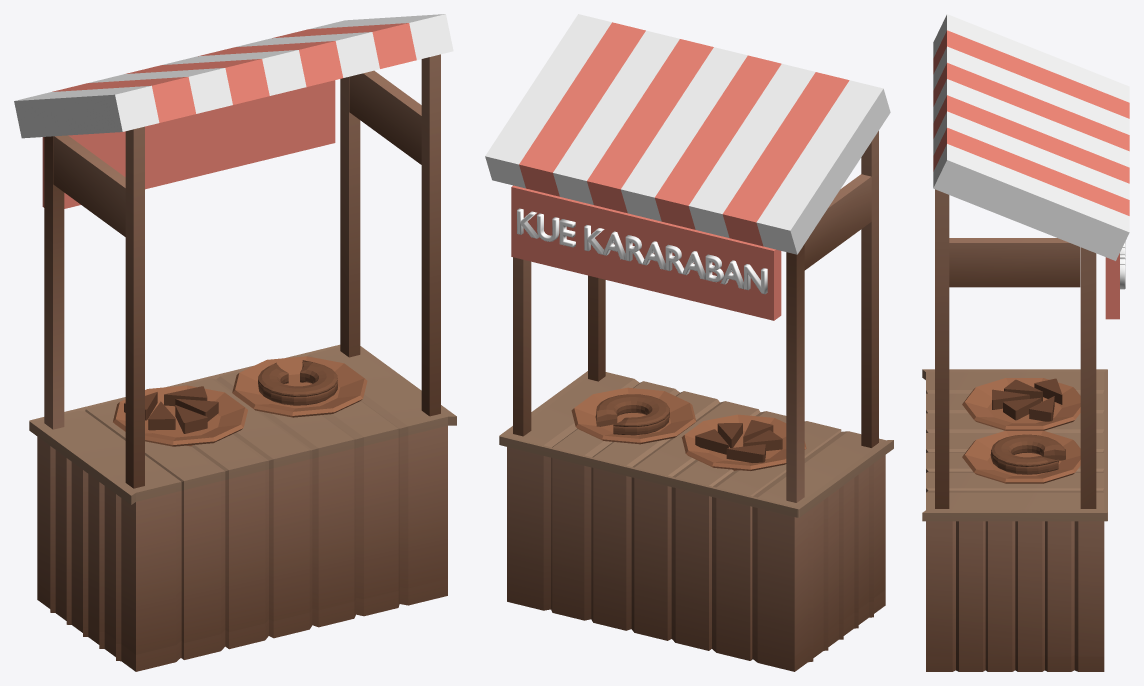
Rendered from Tenant Kue Kararaban.fbx.
3 views of the same model, side by side, from view 1: azimuth 30°, elevation 25°; view 2: azimuth 150°, elevation 25°; view 3: azimuth 270°, elevation 25° (orthographic). The views are drawn at different scales.
Visible parts, largest first — view 1: Cube.022, Cube.021, Cube.029, Cube.026, Cube.023, Cube.025, Cube.024, Cube.027, Cube.028, Cylinder.007, Cylinder.009, Cylinder.008; view 2: Cube.022, Cube.021, Cube.029, Cube.023, Cube.025, Text.002, Cube.024, Cube.027, Cylinder.007, Cylinder.009, Cylinder.008, Cube.026 (+1 smaller); view 3: Cube.022, Cube.021, Cube.028, Cube.026, Cube.024, Cylinder.009, Cylinder.007, Cylinder.008, Cube.029, Cube.049, Cube.052, Cube.051 (+2 smaller).
Boxes of the visible parts, x1,y1,x2,y2 form: Cube.022: (29, 344, 456, 671); Cube.021: (14, 14, 453, 138); Cube.029: (42, 80, 335, 208); Cube.026: (421, 54, 440, 416); Cube.023: (125, 126, 144, 488); Cube.025: (44, 136, 64, 429); Cube.024: (340, 77, 360, 357); Cube.027: (53, 135, 125, 236); Cube.028: (349, 70, 421, 164); Cylinder.007: (232, 356, 367, 417); Cylinder.009: (113, 385, 247, 446); Cylinder.008: (258, 360, 337, 405); Cube.022: (499, 371, 893, 671); Cube.021: (485, 14, 890, 254); Cube.029: (511, 185, 781, 320); Cube.023: (861, 131, 878, 447); Cube.025: (786, 244, 804, 502); Text.002: (517, 208, 767, 294); Cube.024: (513, 257, 531, 436); Cube.027: (804, 174, 871, 270); Cylinder.007: (571, 387, 696, 444); Cylinder.009: (681, 414, 806, 470); Cylinder.008: (595, 394, 669, 435); Cube.026: (588, 275, 605, 381); Cube.022: (922, 369, 1107, 671); Cube.021: (933, 14, 1129, 260); Cube.028: (949, 238, 1080, 287); Cube.026: (935, 189, 949, 508); Cube.024: (1080, 247, 1096, 508); Cylinder.009: (962, 378, 1080, 430); Cylinder.007: (962, 430, 1080, 483); Cylinder.008: (990, 434, 1065, 474); Cube.029: (1105, 253, 1119, 319); Cube.049: (1003, 397, 1041, 420); Cube.052: (1029, 396, 1054, 421); Cube.051: (1034, 378, 1062, 404).
Size of the model in its own units: 425 by 701 by 255.
